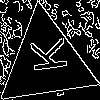K: (20, 36, 68, 76)
